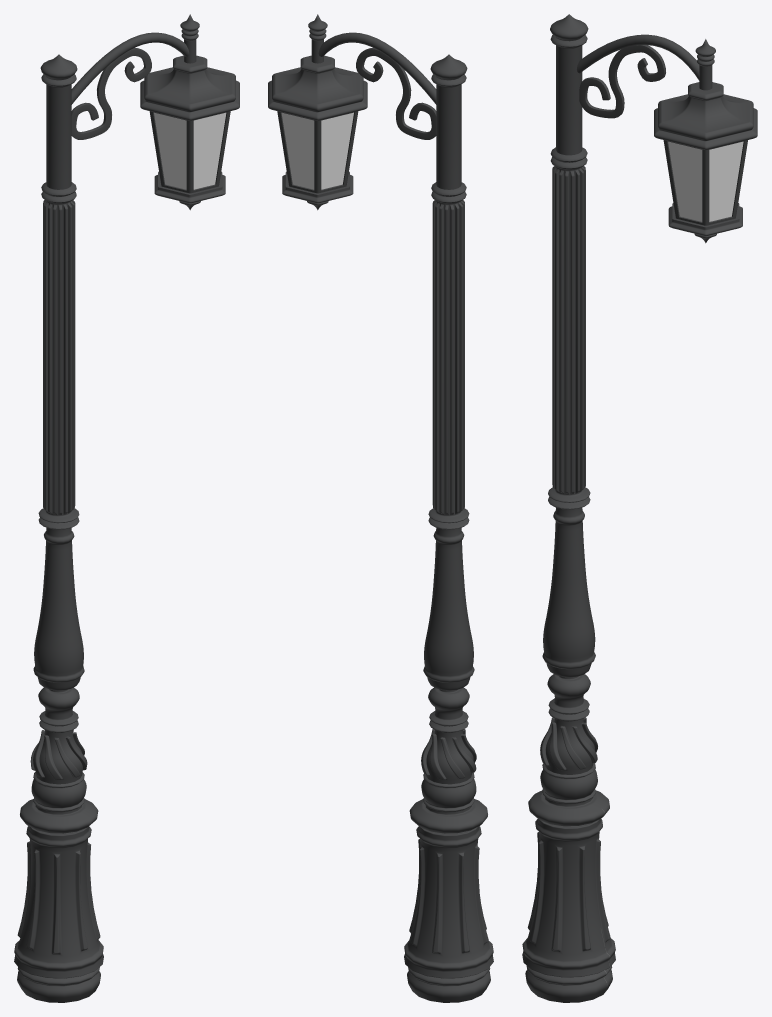
File: luminaria1.obj
3 views of the same model, side by side, from view 1: azimuth 30°, elevation 25°; view 2: azimuth 150°, elevation 25°; view 3: azimuth 330°, elevation 25° (orthographic). The views are drawn at different scales.
Visible parts, largest first — view 1: base1luz, luces1; view 2: base1luz, luces1; view 3: base1luz, luces1.
Part boxes in pixels (<box>): base1luz: <box>14,14,239,1002</box>; luces1: <box>154,112,226,189</box>; base1luz: <box>268,14,493,1002</box>; luces1: <box>281,112,353,189</box>; base1luz: <box>522,14,757,1002</box>; luces1: <box>668,141,743,221</box>.
Bounding box in the file's own units: 4.18 × 17.11 × 1.64.
Materials: 2 (2 with a texture image).
